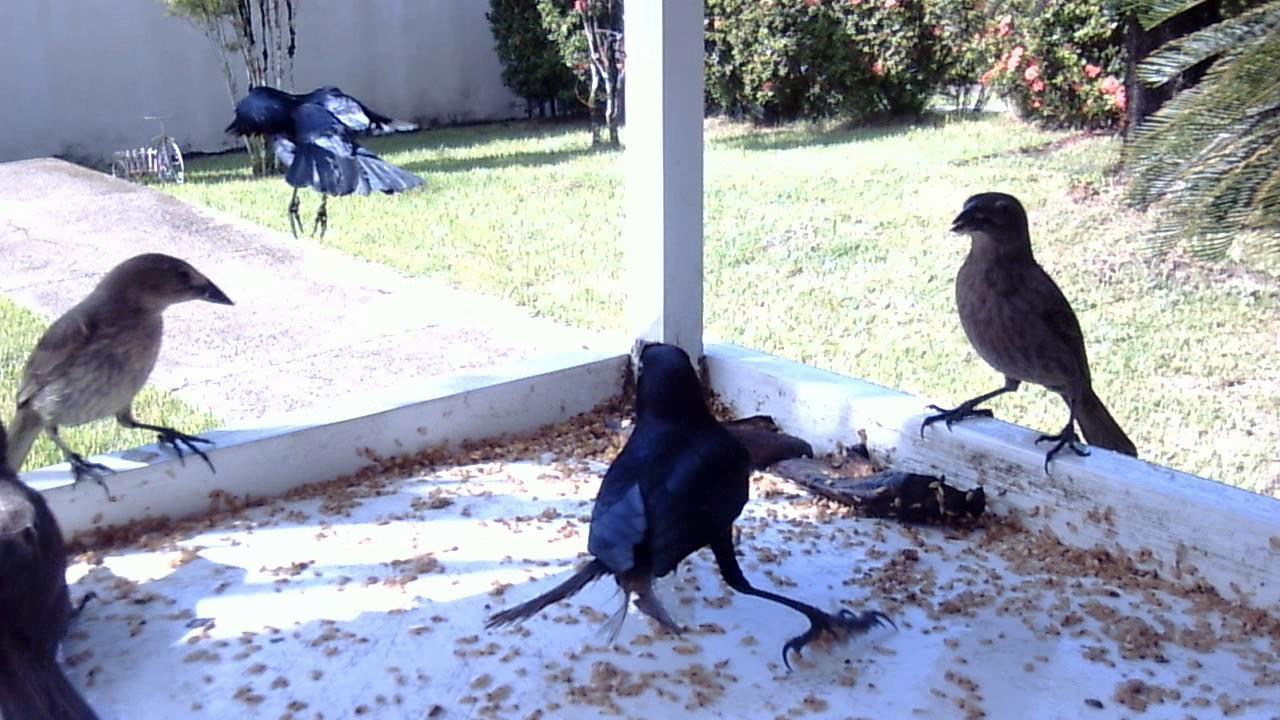chupim: (477, 335, 893, 680), (912, 182, 1147, 485), (3, 244, 247, 519), (234, 80, 427, 253), (3, 431, 119, 712)
